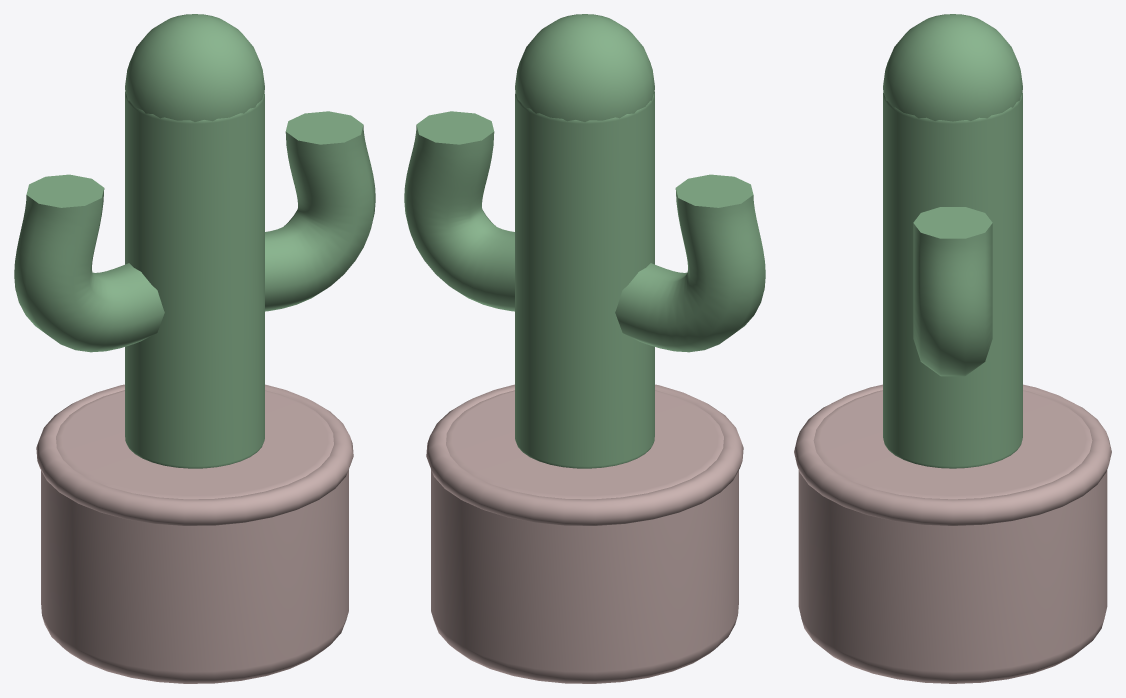
The model's file is plantCactusB.glb.
3 renders of one model, left to right at view 1: azimuth 30°, elevation 25°; view 2: azimuth 150°, elevation 25°; view 3: azimuth 270°, elevation 25°, orthographic.
Visible parts, largest first — view 1: Ceramic planter, Cactus, Cactus arm, Cactus arm.001, Cactus top, Pot rim; view 2: Ceramic planter, Cactus, Cactus arm, Cactus arm.001, Cactus top, Pot rim; view 3: Ceramic planter, Cactus, Cactus arm.001, Cactus top, Pot rim.
Boxes of the visible parts, box(x1,y1,x2,y2) form: Ceramic planter: box(41, 390, 348, 683); Cactus: box(125, 92, 264, 468); Cactus arm: box(14, 174, 164, 352); Cactus arm.001: box(265, 111, 375, 311); Cactus top: box(125, 14, 264, 121); Pot rim: box(36, 384, 353, 525); Ceramic planter: box(431, 390, 738, 683); Cactus: box(515, 92, 654, 468); Cactus arm: box(615, 174, 765, 352); Cactus arm.001: box(404, 111, 514, 311); Cactus top: box(515, 14, 654, 121); Pot rim: box(426, 384, 743, 525); Ceramic planter: box(798, 390, 1107, 683); Cactus: box(883, 92, 1022, 468); Cactus arm.001: box(913, 207, 992, 376); Cactus top: box(883, 14, 1022, 121); Pot rim: box(794, 384, 1111, 525).
Bounding box in the file's own units: 0.8624 × 1.43 × 0.68.
